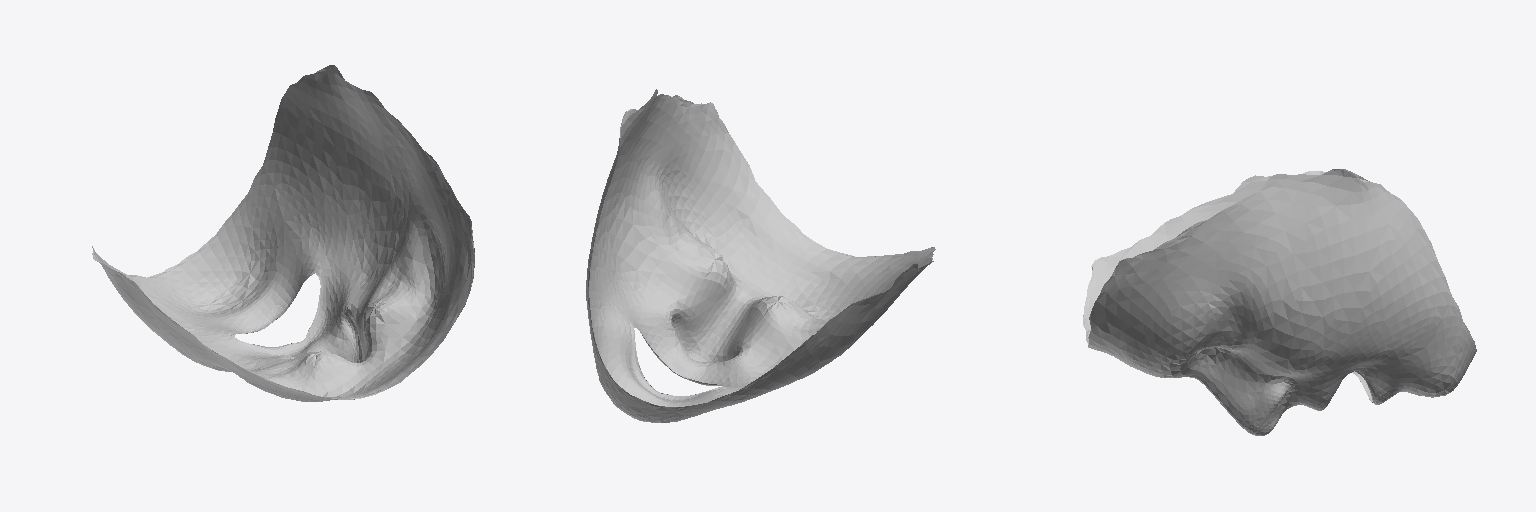
File: face_gab_sfm51.obj
3 renders of one model, left to right at view 1: azimuth 30°, elevation 25°; view 2: azimuth 150°, elevation 25°; view 3: azimuth 270°, elevation 25°, orthographic.
Size of the model in its own units: 166 by 158 by 200.